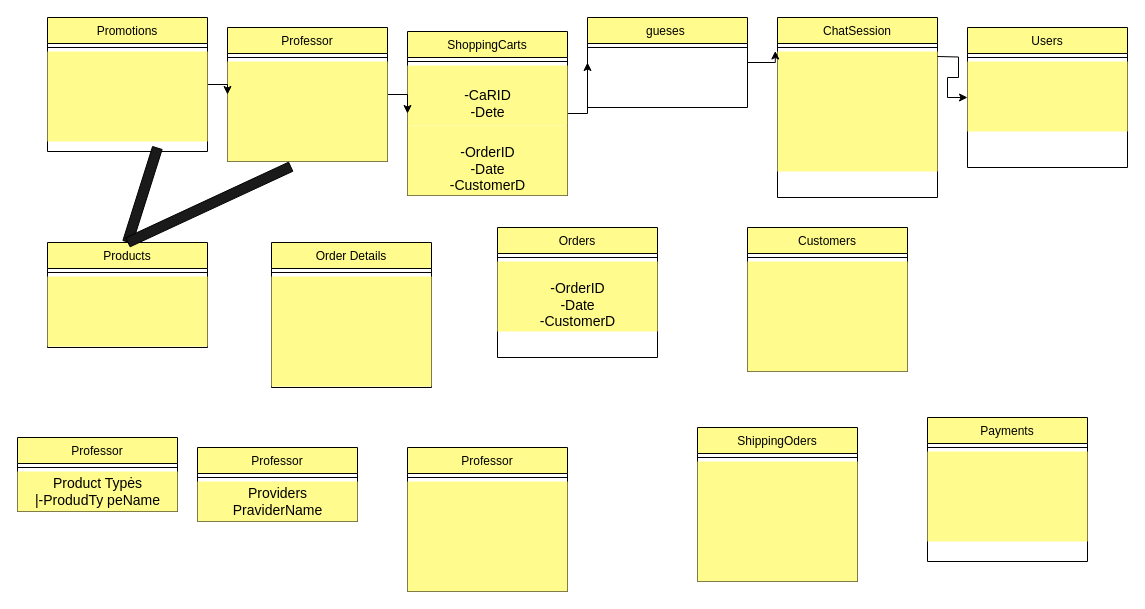
This 1145x609 diagram has some shape labels left out. Here are the shapes that lost their labels. From the top down, the centre of each, then its label:
[127,96]: PromotionID ProductID Desription Amount Detestart DeteEnd
[307,111]: -CartID -ProdudID guend- -UntPrice -PromotionAmount
[857,111]: -SemonID -UserID -GuestSemioniD -MessagelD -Message -Date
[1047,96]: -UserID -Name -Role
[127,311]: -ProductID -Name -Confurationinfo
[351,331]: -OrderID -ProductID -Quantty -UntPrice -PromotionD
[827,316]: CustomerID Name Address Phone Date
[1007,496]: -PaymenID -OrdedD -Amount -Date -MEhod
[487,536]: Prices -PriceID -ProductID -UntPrice -DeteStart -Date End
[777,521]: -ShippingD -OrderID -Shipping Date -Destination Date -Fee -Shipping Type
